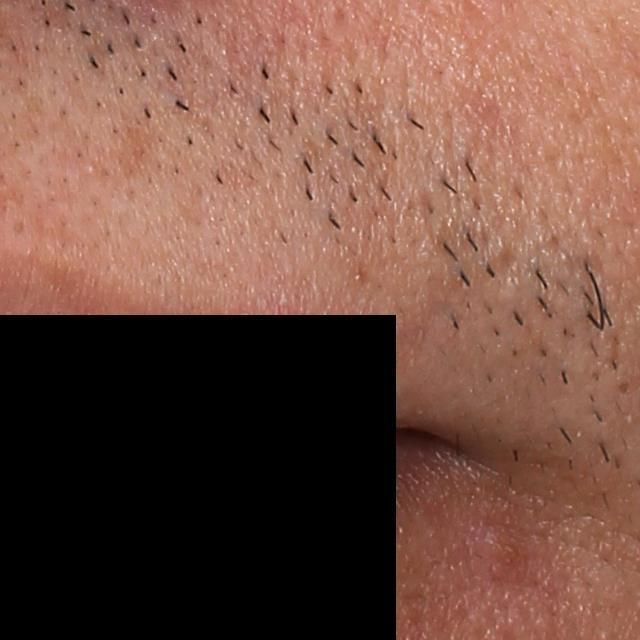papule: (476, 521, 523, 564)
